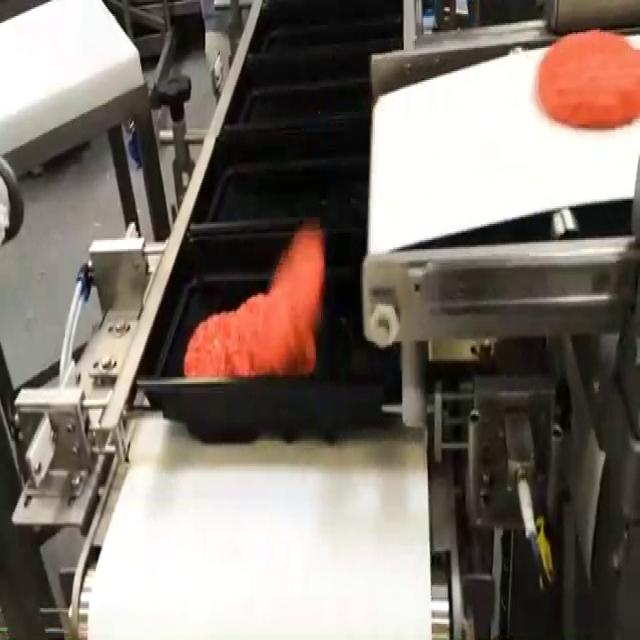hamburguer: (537, 30, 639, 128)
